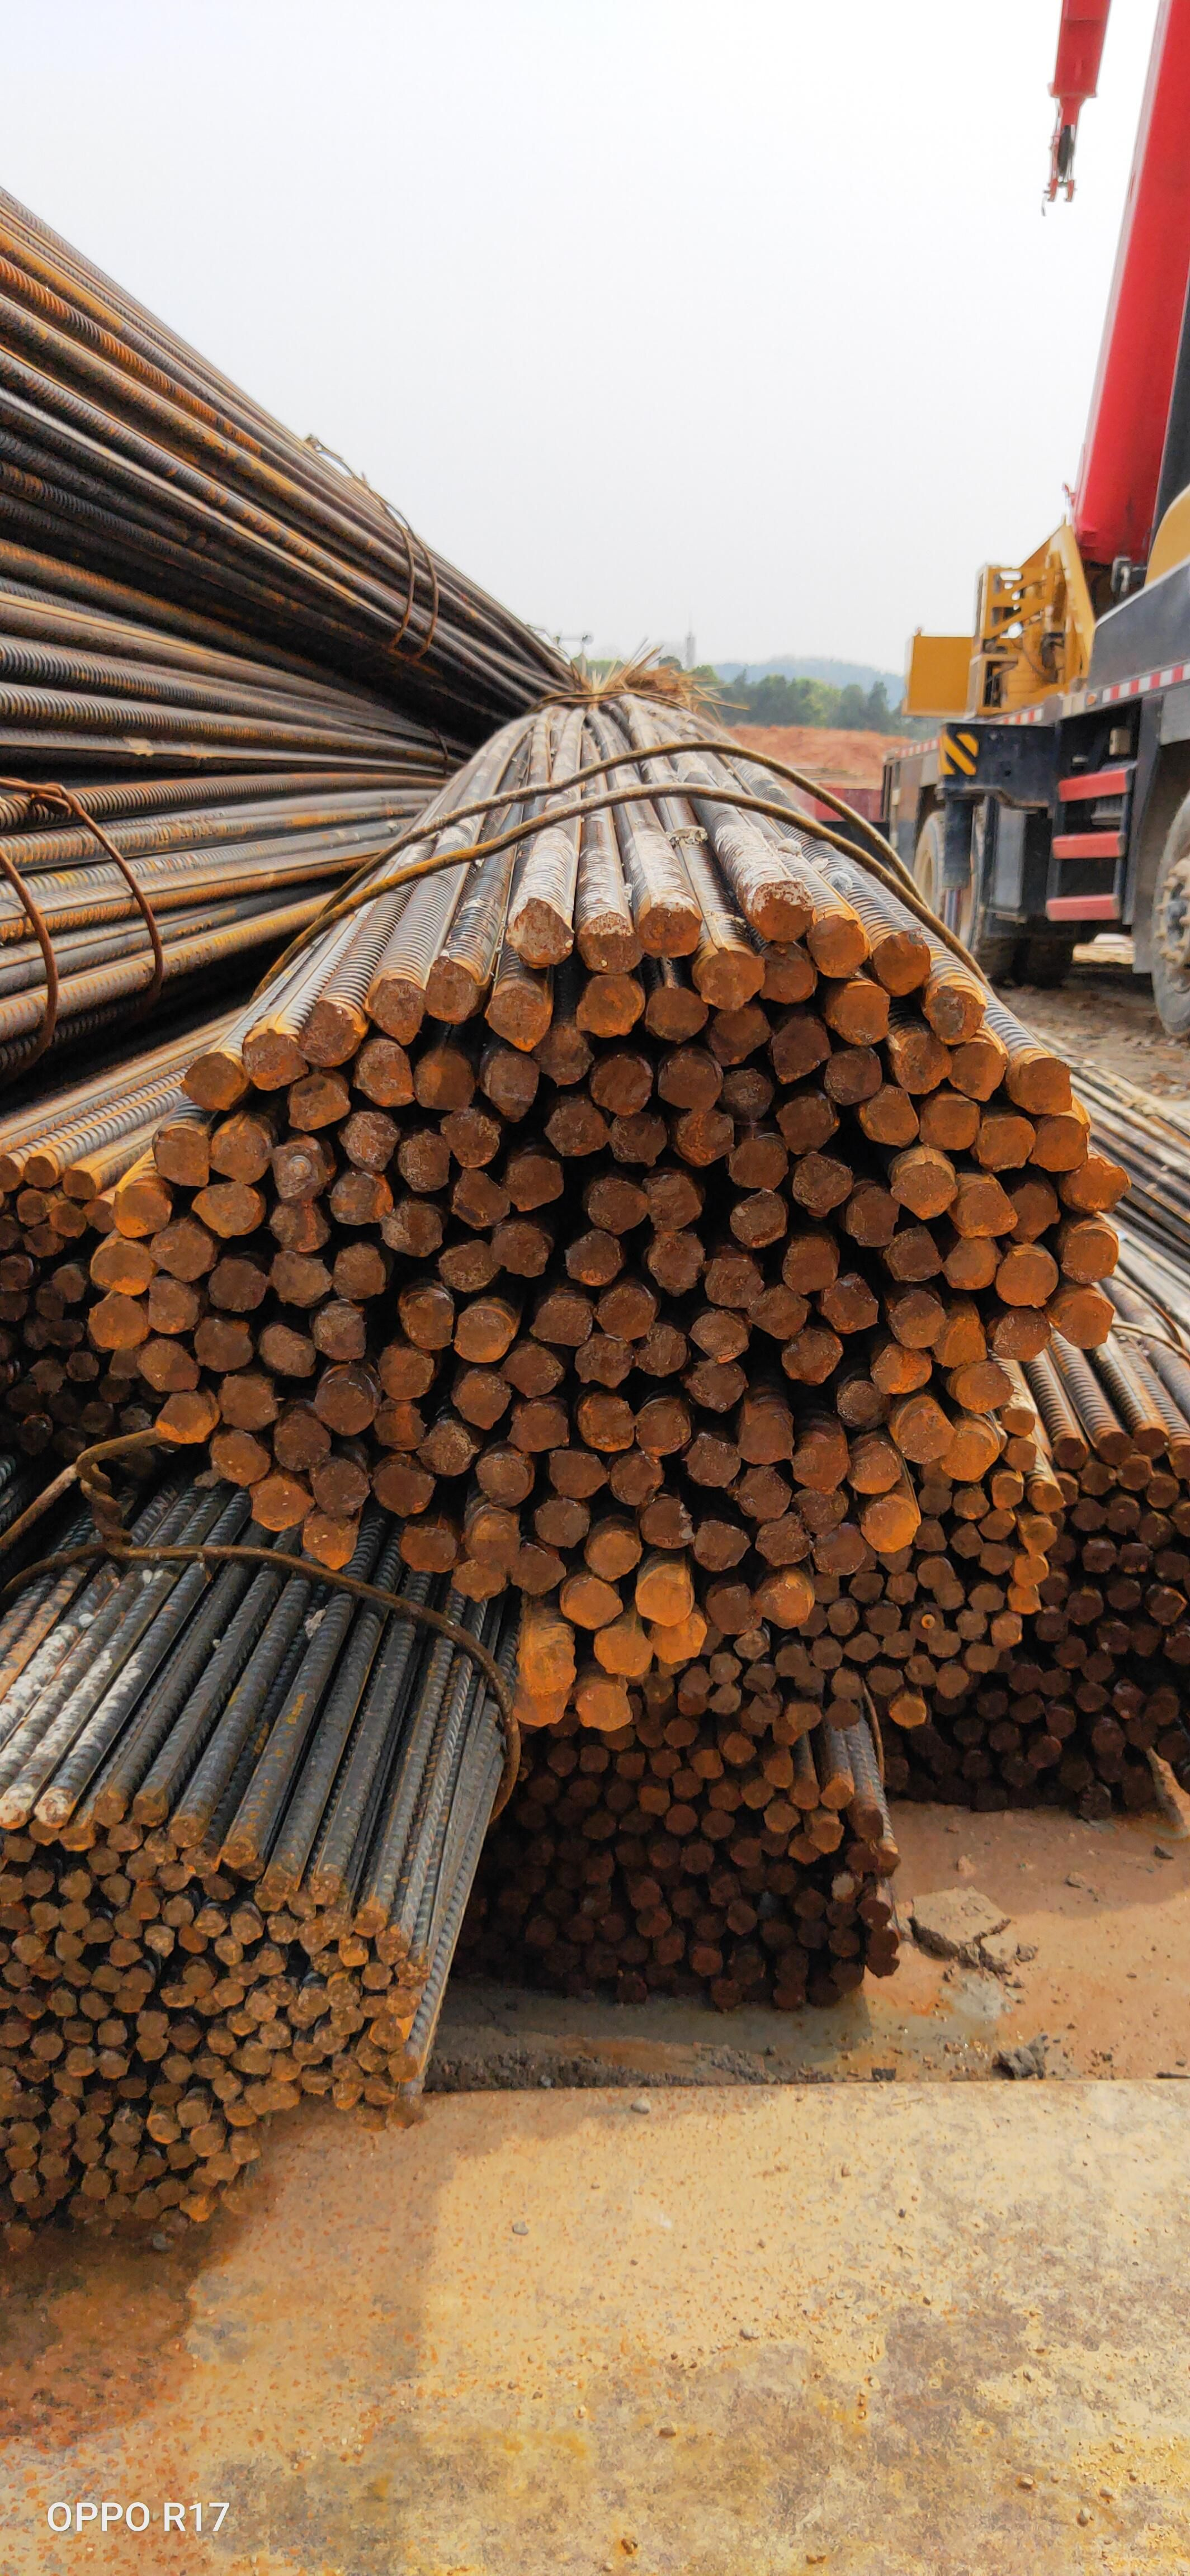rebar: (504, 898, 574, 971), (573, 971, 647, 1038), (482, 986, 555, 1052), (892, 1391, 956, 1465), (695, 946, 765, 1014), (296, 998, 361, 1069), (238, 1026, 307, 1090), (177, 1049, 248, 1112), (145, 1126, 214, 1189), (481, 1050, 541, 1124), (921, 981, 986, 1046), (577, 911, 645, 977), (952, 1177, 1020, 1240), (190, 1180, 261, 1240), (749, 879, 816, 943), (806, 915, 871, 980), (774, 1091, 839, 1156), (891, 1030, 953, 1097), (353, 1039, 414, 1109), (871, 927, 932, 998), (367, 977, 427, 1046), (422, 956, 482, 1026), (440, 1106, 503, 1170), (590, 1051, 654, 1115), (644, 982, 711, 1045), (788, 1150, 854, 1213), (247, 1472, 314, 1532), (284, 1073, 352, 1133), (771, 1017, 832, 1085), (891, 1161, 959, 1222), (446, 1169, 509, 1232), (1014, 1054, 1076, 1117), (150, 1222, 215, 1284), (585, 1174, 651, 1235), (657, 1053, 723, 1114), (135, 1336, 202, 1394), (542, 1097, 611, 1156), (339, 1110, 400, 1172), (415, 1049, 477, 1112), (830, 983, 892, 1047), (209, 1121, 270, 1187), (268, 1140, 332, 1201), (270, 1248, 334, 1309), (688, 1306, 753, 1366), (84, 1292, 149, 1351), (312, 1377, 378, 1436), (310, 1456, 372, 1516), (607, 1110, 668, 1169), (647, 1231, 709, 1294), (859, 1086, 920, 1148), (947, 1042, 1008, 1104), (1061, 1224, 1121, 1286), (329, 1168, 393, 1228), (630, 1397, 693, 1456), (918, 1094, 981, 1153), (88, 1239, 155, 1296), (206, 1257, 271, 1314), (537, 1021, 594, 1087), (379, 1200, 446, 1259), (858, 1494, 924, 1553), (683, 1356, 750, 1413), (868, 1339, 933, 1396), (370, 1462, 437, 1517), (1031, 1112, 1091, 1173), (886, 1288, 947, 1349), (218, 1374, 279, 1432), (192, 1316, 256, 1374), (437, 1236, 500, 1294), (452, 1306, 517, 1364), (415, 1419, 479, 1478), (706, 1008, 771, 1066), (397, 1129, 454, 1194), (639, 903, 705, 960), (503, 1400, 570, 1453), (506, 1153, 566, 1212), (643, 1173, 703, 1232), (676, 1107, 736, 1166), (728, 1190, 788, 1250), (976, 1114, 1036, 1175), (885, 1223, 944, 1285), (943, 1234, 1003, 1295), (995, 1248, 1056, 1308), (1056, 1292, 1116, 1353), (577, 1391, 635, 1454), (109, 1183, 173, 1239), (847, 1185, 903, 1248), (529, 1294, 595, 1348), (272, 1413, 332, 1472), (299, 1512, 359, 1571), (735, 1462, 794, 1522), (824, 1046, 883, 1105), (376, 1344, 437, 1401), (453, 1369, 512, 1430), (564, 1229, 625, 1287), (727, 1135, 788, 1194), (750, 1284, 811, 1341), (991, 1308, 1053, 1363), (547, 1445, 611, 1499), (559, 1576, 624, 1630), (210, 1431, 270, 1488), (309, 1304, 367, 1361), (475, 1448, 533, 1507), (520, 1637, 577, 1695), (608, 1451, 667, 1508), (735, 1408, 794, 1465), (530, 1494, 591, 1550), (597, 1286, 658, 1342), (782, 1329, 844, 1385), (703, 1254, 765, 1309), (1070, 1157, 1131, 1213), (153, 1392, 215, 1445), (632, 1573, 695, 1628), (753, 1513, 815, 1568), (954, 1361, 1016, 1415), (585, 1527, 643, 1584), (691, 1518, 751, 1573), (683, 1432, 741, 1488), (823, 1278, 880, 1334), (267, 1199, 327, 1253), (396, 1521, 456, 1575), (508, 1542, 569, 1597), (500, 1344, 563, 1397), (1008, 1179, 1061, 1242), (144, 1277, 200, 1334), (258, 1323, 315, 1378), (399, 1293, 455, 1351), (576, 1333, 633, 1389), (762, 946, 818, 1004), (332, 1240, 387, 1300), (647, 1611, 707, 1665), (754, 1577, 815, 1630), (814, 1518, 867, 1575), (833, 1376, 887, 1433), (791, 1485, 849, 1538), (593, 1627, 655, 1677), (493, 1225, 549, 1279), (373, 1397, 429, 1451), (640, 1497, 696, 1551), (937, 1317, 992, 1371), (719, 1069, 775, 1123), (467, 1510, 521, 1564), (709, 1583, 763, 1638), (942, 1427, 997, 1483), (791, 1443, 849, 1494), (853, 1441, 904, 1497), (637, 1319, 687, 1377), (780, 1244, 838, 1292), (572, 1684, 632, 1731), (446, 1559, 509, 1602), (511, 1686, 573, 1728), (889, 1691, 928, 1730), (1020, 1516, 1058, 1557), (6, 1382, 47, 1417), (142, 1826, 178, 1867), (1009, 1552, 1051, 1588), (1150, 1589, 1188, 1626), (762, 1797, 801, 1835), (32, 1794, 71, 1830), (260, 1864, 300, 1901), (367, 2017, 406, 2053), (50, 1266, 88, 1304), (1097, 1429, 1135, 1466), (1120, 1767, 1155, 1807), (1001, 1750, 1035, 1791), (49, 1200, 87, 1238), (46, 1390, 83, 1427), (784, 1698, 823, 1733), (937, 1774, 976, 1808), (826, 1597, 860, 1637), (91, 1793, 126, 1829), (239, 2040, 274, 2077), (1108, 1576, 1145, 1612), (1108, 1684, 1145, 1720), (909, 1606, 946, 1642), (729, 1949, 765, 1985), (1154, 1727, 1190, 1763), (1052, 1436, 1089, 1471), (1059, 1757, 1096, 1791), (949, 1521, 984, 1560), (935, 1662, 970, 1701), (741, 1661, 780, 1696), (166, 1816, 205, 1849), (297, 1918, 331, 1956), (387, 2100, 426, 2133), (23, 1225, 63, 1258), (1146, 1687, 1179, 1727), (979, 1509, 1017, 1541), (970, 1782, 1009, 1813), (156, 1862, 197, 1892), (825, 1962, 866, 1992), (130, 1794, 166, 1828), (180, 1844, 218, 1880), (56, 1867, 91, 1903), (308, 1872, 342, 1907), (352, 1904, 388, 1939), (375, 1931, 411, 1966), (144, 1922, 177, 1959), (23, 1154, 59, 1190), (62, 1167, 97, 1200), (1071, 1495, 1107, 1532), (1120, 1540, 1155, 1574), (1155, 1549, 1190, 1585), (1098, 1622, 1134, 1656), (1029, 1735, 1064, 1770), (989, 1474, 1024, 1510), (917, 1483, 952, 1517), (829, 1667, 864, 1703), (638, 1782, 672, 1816), (740, 1774, 775, 1810), (808, 1819, 843, 1854), (522, 1832, 556, 1867), (792, 1886, 828, 1920), (827, 1869, 862, 1905), (653, 1929, 687, 1964), (927, 1741, 962, 1778), (124, 1850, 160, 1883), (128, 1883, 162, 1921), (32, 1361, 68, 1395), (1090, 1725, 1127, 1758), (911, 1520, 949, 1553), (866, 1603, 904, 1637), (955, 1607, 988, 1644), (728, 1836, 766, 1868), (16, 1187, 48, 1228), (545, 1740, 577, 1779), (162, 1894, 196, 1928), (228, 1911, 263, 1945), (27, 1900, 62, 1934), (182, 1963, 217, 1998), (296, 1985, 330, 2019), (33, 1288, 67, 1322), (1136, 1424, 1170, 1459), (1117, 1457, 1153, 1491), (1076, 1679, 1111, 1714), (1002, 1404, 1037, 1439), (1031, 1481, 1066, 1516), (808, 1636, 844, 1671), (965, 1640, 999, 1674), (692, 1747, 727, 1781), (709, 1873, 743, 1907), (709, 1976, 744, 2011), (808, 1974, 843, 2010), (10, 1931, 46, 1966), (242, 1990, 278, 2023), (7, 2120, 42, 2152), (35, 2149, 71, 2182), (160, 2053, 195, 2086), (188, 2124, 225, 2157), (65, 1351, 101, 1382), (1083, 1537, 1117, 1573), (1038, 1571, 1070, 1608), (986, 1719, 1022, 1751), (1005, 1436, 1040, 1472), (955, 1488, 991, 1521), (990, 1613, 1024, 1650), (1007, 1581, 1043, 1616), (776, 1643, 809, 1679), (845, 1631, 881, 1665), (866, 1663, 902, 1695), (825, 1697, 861, 1730), (721, 1731, 758, 1764), (819, 1778, 855, 1811), (662, 1805, 698, 1837), (51, 1426, 87, 1460), (251, 1945, 287, 1976), (92, 2049, 129, 2080), (1, 1255, 34, 1294), (1078, 1463, 1117, 1494), (1081, 1784, 1112, 1822), (918, 1557, 956, 1589), (875, 1545, 913, 1575), (849, 1574, 886, 1604), (218, 1840, 258, 1870), (119, 1966, 157, 1995), (23, 1865, 56, 1899), (328, 1978, 360, 2012), (385, 1987, 419, 2019), (352, 2105, 386, 2137), (168, 2021, 202, 2053), (331, 2078, 365, 2111), (105, 2142, 139, 2175), (265, 2080, 300, 2113), (1146, 1475, 1179, 1509), (1070, 1593, 1104, 1626), (1043, 1704, 1077, 1740), (885, 1571, 919, 1607), (904, 1652, 937, 1687), (671, 1768, 705, 1800), (789, 1777, 822, 1812), (582, 1853, 616, 1886), (597, 1912, 629, 1946), (859, 1898, 892, 1932), (725, 1901, 757, 1936), (910, 1725, 943, 1759), (86, 1845, 121, 1876), (107, 1937, 143, 1968), (362, 2075, 398, 2106), (84, 1199, 116, 1235), (951, 1712, 986, 1743), (970, 1582, 1006, 1614), (709, 1652, 744, 1684), (707, 1782, 744, 1812), (701, 1810, 738, 1841), (627, 1878, 664, 1909), (638, 1909, 674, 1940), (772, 1982, 809, 2012), (145, 2115, 182, 2144), (1126, 1715, 1156, 1754), (879, 1629, 917, 1660), (669, 1888, 706, 1918), (105, 1824, 144, 1852), (48, 1318, 87, 1346), (1133, 1620, 1161, 1659), (265, 1913, 298, 1945), (338, 1936, 370, 1968), (44, 1986, 77, 2019), (3, 2222, 37, 2254), (270, 2051, 303, 2083), (108, 1347, 141, 1381), (1106, 1498, 1140, 1532), (1084, 1651, 1116, 1684), (920, 1459, 954, 1491), (796, 1605, 828, 1637), (643, 1671, 676, 1704), (664, 1717, 697, 1749), (517, 1862, 550, 1894), (796, 1919, 829, 1952), (777, 1953, 810, 1986), (2, 1834, 37, 1864), (100, 1872, 132, 1907), (322, 1908, 353, 1942), (192, 1907, 228, 1938), (59, 1900, 91, 1935), (328, 2005, 363, 2037), (385, 2052, 419, 2083), (30, 2031, 64, 2062), (64, 2046, 98, 2077), (45, 2099, 80, 2129), (257, 2019, 292, 2051), (978, 1542, 1013, 1574), (679, 1665, 713, 1697), (709, 1683, 743, 1715), (565, 1777, 599, 1810), (856, 1807, 888, 1841), (787, 1833, 821, 1865), (648, 1836, 682, 1868), (681, 1843, 716, 1875), (579, 1886, 613, 1918), (690, 1945, 724, 1977), (828, 1927, 862, 1958), (253, 1880, 283, 1916), (394, 1958, 431, 1988), (733, 1630, 770, 1659), (526, 1777, 561, 1805), (59, 1826, 97, 1853), (1038, 1604, 1065, 1642), (112, 1908, 145, 1939), (91, 1963, 122, 1995), (211, 1978, 244, 2009), (13, 1990, 46, 2021), (78, 1990, 110, 2023), (9, 2171, 41, 2203), (80, 2167, 112, 2200), (212, 2072, 244, 2104), (229, 2134, 261, 2165), (207, 2152, 240, 2184), (22, 1413, 55, 1444), (81, 1401, 114, 1433), (1055, 1636, 1086, 1669), (1042, 1666, 1074, 1698), (1097, 1749, 1127, 1782), (636, 1716, 667, 1750), (761, 1758, 795, 1789), (524, 1916, 558, 1947), (585, 1949, 617, 1981), (906, 1773, 938, 1805), (361, 1962, 394, 1991), (135, 2009, 169, 2038), (14, 2091, 49, 2120), (311, 2028, 347, 2056), (133, 2187, 163, 2220), (177, 2099, 212, 2130), (1138, 1512, 1167, 1546), (1010, 1664, 1043, 1693), (960, 1751, 994, 1781), (674, 1688, 709, 1719), (551, 1801, 581, 1835), (760, 1920, 794, 1949), (224, 2100, 259, 2127), (622, 1810, 658, 1839), (158, 1982, 195, 2009), (266, 1976, 297, 2008), (52, 2069, 84, 2099), (167, 2141, 198, 2172), (1, 1291, 32, 1323), (1012, 1692, 1044, 1724), (795, 1666, 826, 1697), (747, 1694, 780, 1725), (287, 1890, 318, 1922), (80, 1916, 114, 1945), (108, 2120, 141, 2150), (929, 1629, 961, 1659), (558, 1832, 590, 1862), (498, 1886, 531, 1916), (615, 1976, 648, 2006), (134, 2034, 169, 2062), (299, 2069, 333, 2096), (291, 2040, 327, 2067), (244, 2082, 272, 2117), (547, 1713, 584, 1740), (582, 1815, 617, 1842), (27, 1816, 59, 1847), (203, 1872, 234, 1902), (177, 1926, 209, 1954), (214, 1935, 244, 1967), (52, 1934, 84, 1964), (73, 2137, 106, 2166), (178, 2195, 210, 2224), (934, 1580, 966, 1611), (813, 1572, 841, 1603), (771, 1717, 801, 1747), (581, 1745, 610, 1776), (614, 1751, 646, 1782), (604, 1784, 634, 1814), (868, 1929, 899, 1958), (1, 1797, 29, 1830), (59, 1960, 93, 1988), (4, 2144, 38, 2172), (74, 2113, 106, 2141), (155, 2180, 190, 2208), (882, 1756, 910, 1789), (847, 1842, 874, 1874), (310, 1950, 343, 1976), (119, 1406, 153, 1432), (1164, 1631, 1190, 1665), (699, 1622, 725, 1655), (602, 1726, 636, 1753), (866, 1951, 901, 1978), (15, 2059, 51, 2083), (42, 2126, 72, 2156), (207, 2028, 237, 2057), (650, 1749, 681, 1780), (158, 2209, 190, 2236), (97, 2019, 127, 2048), (229, 1961, 259, 1987), (1048, 1535, 1076, 1566), (977, 1690, 1009, 1718), (565, 1915, 597, 1944), (769, 1865, 797, 1896), (29, 1955, 63, 1982), (112, 1988, 145, 2015), (25, 2193, 57, 2219), (96, 1375, 129, 1402), (615, 1839, 647, 1867), (67, 2196, 101, 2221), (1055, 1474, 1080, 1508), (1, 1872, 23, 1910), (1, 1903, 30, 1933), (555, 1866, 584, 1894), (692, 1916, 722, 1944), (62, 2018, 93, 2044), (542, 1888, 574, 1914), (114, 2076, 147, 2100), (226, 2010, 258, 2036), (149, 2082, 182, 2106), (25, 1318, 50, 1351), (355, 2045, 383, 2073), (42, 2177, 72, 2204), (188, 2167, 219, 2193), (1, 1156, 21, 1194), (740, 1869, 769, 1896), (755, 1891, 781, 1921), (653, 1967, 678, 1996), (1, 1963, 31, 1988), (993, 1649, 1017, 1679), (113, 2171, 147, 2195), (656, 1655, 690, 1677), (103, 2194, 131, 2220), (620, 1940, 648, 1966), (830, 1905, 858, 1930), (1, 2023, 29, 2048), (83, 2090, 113, 2115), (84, 2212, 114, 2237), (331, 2056, 360, 2080), (621, 1694, 646, 1724), (193, 2056, 225, 2079), (2, 2067, 22, 2103), (762, 1830, 787, 1857), (360, 1995, 388, 2020), (1, 1218, 20, 1252), (1171, 1446, 1190, 1480), (519, 1806, 550, 1829), (741, 1713, 768, 1738), (875, 1847, 900, 1871), (1048, 1507, 1065, 1533), (1178, 1503, 1190, 1540)
